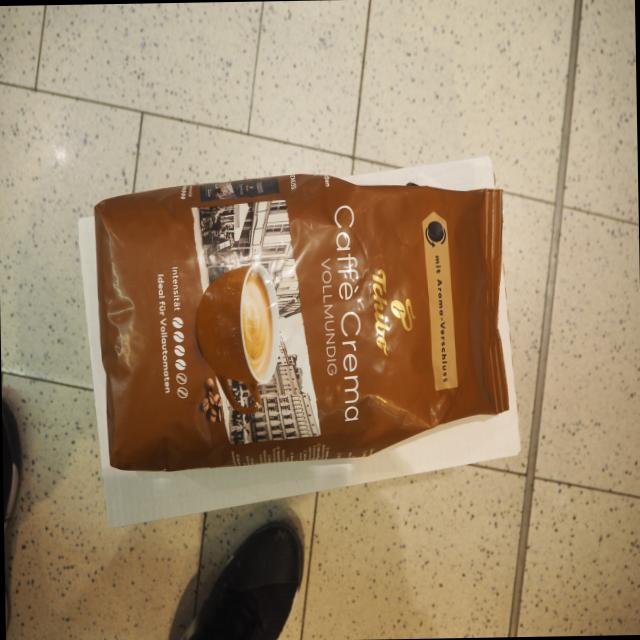CC Vollmundig 36 Pads: (90, 164, 514, 472)
